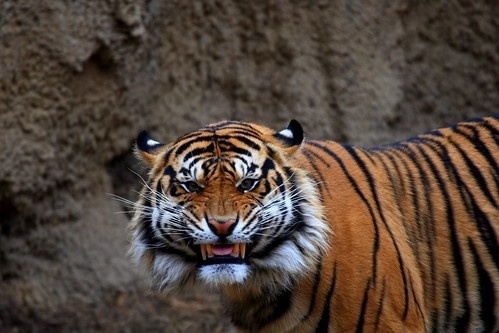tigre: (123, 116, 496, 333)
